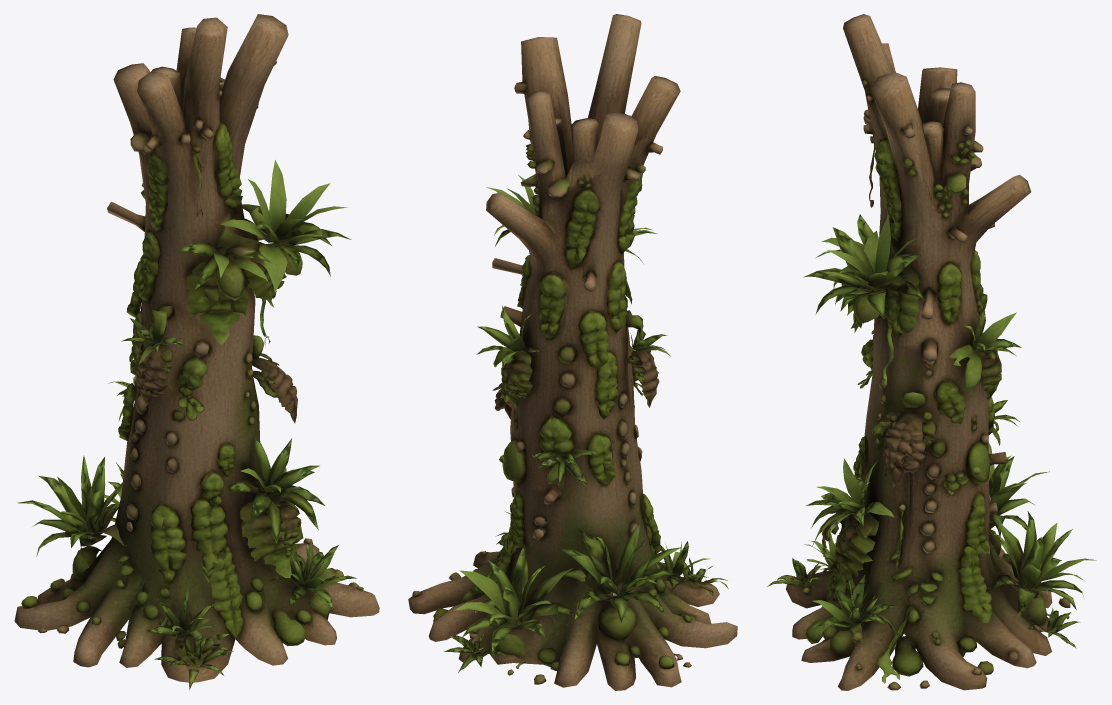
The model's file is jun_mossy_dead_tree.glb.
3 renders of one model, left to right at view 1: azimuth 30°, elevation 25°; view 2: azimuth 150°, elevation 25°; view 3: azimuth 270°, elevation 25°, orthographic. The views are drawn at different scales.
Parts seen in each view (by area): view 1: tripo_node_c5806132-b1b8-42ec-9b28-db49bdb041b3; view 2: tripo_node_c5806132-b1b8-42ec-9b28-db49bdb041b3; view 3: tripo_node_c5806132-b1b8-42ec-9b28-db49bdb041b3.
Boxes of the visible parts, x1,y1,x2,y2 form: tripo_node_c5806132-b1b8-42ec-9b28-db49bdb041b3: (14, 14, 379, 690); tripo_node_c5806132-b1b8-42ec-9b28-db49bdb041b3: (408, 14, 737, 690); tripo_node_c5806132-b1b8-42ec-9b28-db49bdb041b3: (767, 14, 1096, 690).
Size of the model in its own units: 0.4863 by 0.998 by 0.498.
1 material, 1 textured.
